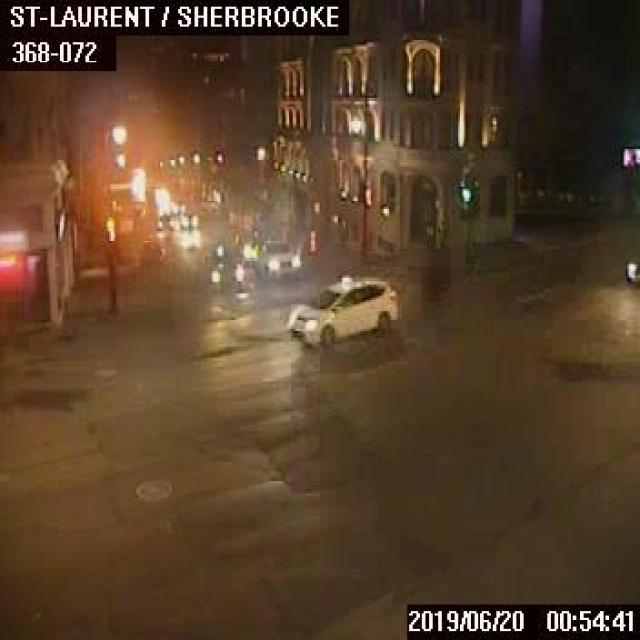construction: (306, 226, 316, 253)
vehicle: (286, 273, 396, 346), (203, 242, 243, 287), (258, 237, 300, 278), (138, 238, 164, 264), (623, 247, 638, 284), (177, 210, 197, 228), (155, 210, 173, 228)
